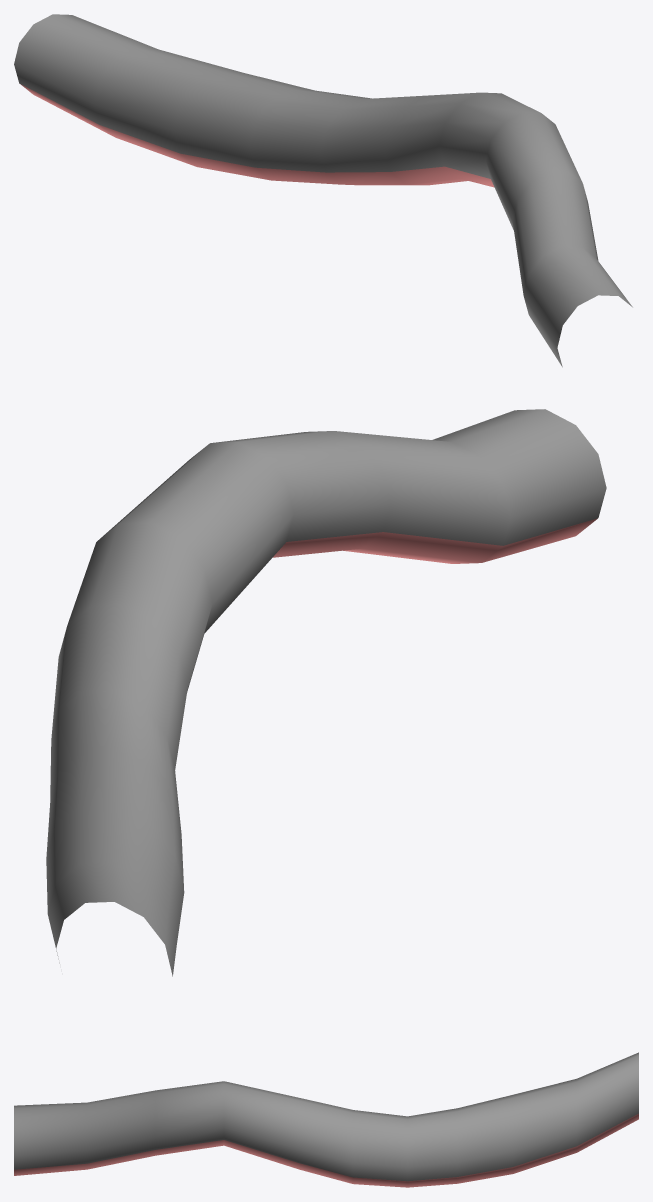
3 views of the same model, one above another, from view 1: azimuth 30°, elevation 25°; view 2: azimuth 150°, elevation 25°; view 3: azimuth 270°, elevation 25° (orthographic). The views are drawn at different scales.
Parts seen in each view (by area): view 1: root_06_2; view 2: root_06_2; view 3: root_06_2.
Boxes of the visible parts, bbox=[...] form: root_06_2: bbox=[14, 14, 632, 367]; root_06_2: bbox=[46, 409, 606, 976]; root_06_2: bbox=[14, 1052, 638, 1187].
Size of the model in its own units: 23.23 by 13.29 by 59.27.
